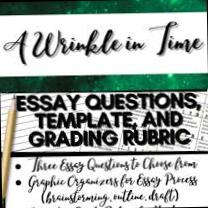text: (1, 18, 205, 67), (14, 90, 202, 115), (25, 171, 198, 195), (26, 152, 198, 175), (28, 126, 192, 149), (33, 109, 184, 130), (40, 186, 180, 206), (26, 201, 174, 208)
